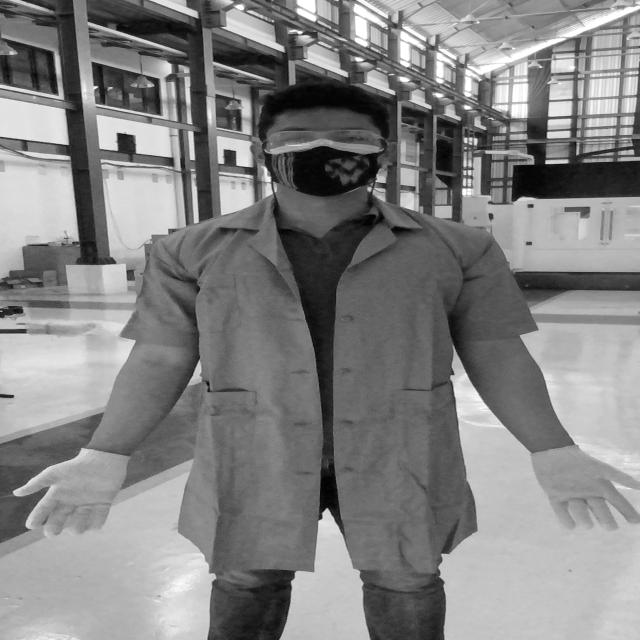face_mask: (258, 125, 384, 193)
glasses: (258, 124, 396, 154)
hand_glove: (10, 444, 146, 544), (524, 438, 640, 530)
head_nohelmet: (262, 82, 384, 122)
person: (11, 76, 635, 640)
